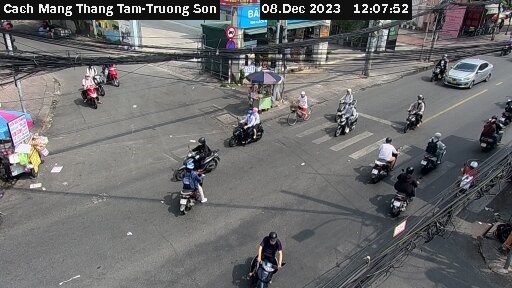car: (445, 54, 494, 88)
motorbike: (237, 237, 296, 283), (166, 139, 225, 173), (388, 171, 431, 216), (221, 108, 271, 145), (169, 171, 211, 212), (412, 130, 450, 175), (361, 136, 402, 176), (401, 97, 439, 136), (475, 114, 504, 149), (73, 76, 105, 105), (328, 106, 358, 133), (332, 88, 361, 110), (426, 53, 450, 79)
